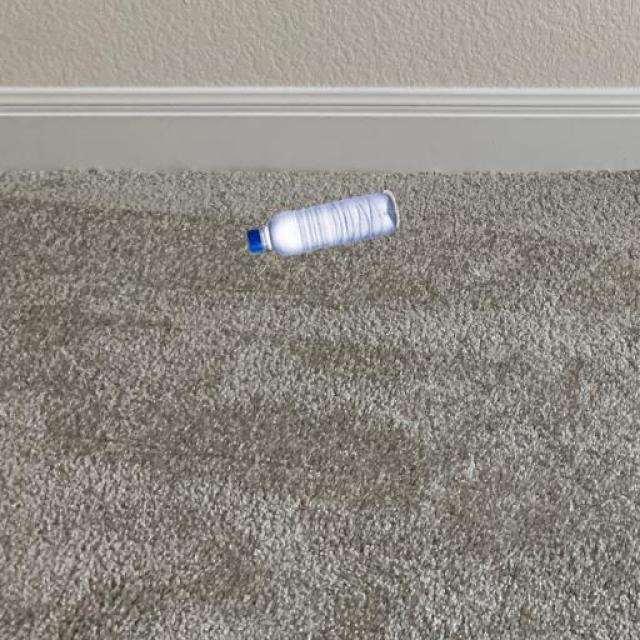bottle: (245, 188, 399, 258)
